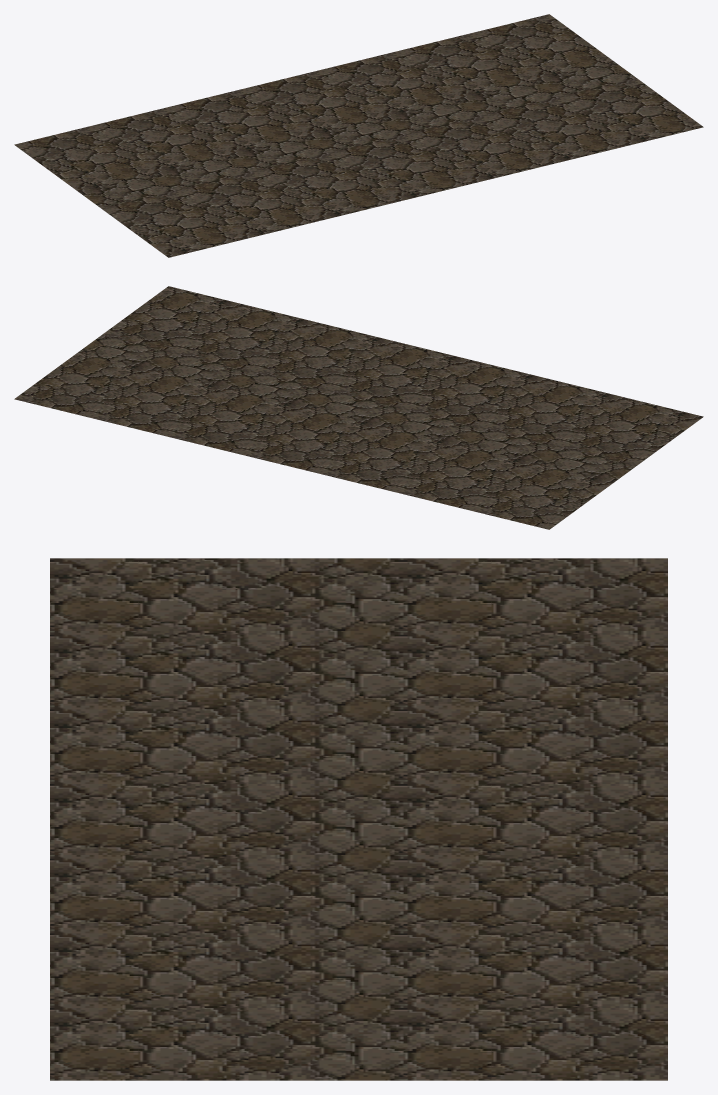
Rendered from EnvBdgMD_Snow_Mansion_A_Indoor_A_Stone.FBX.
3 views of the same model, one above another, from view 1: azimuth 30°, elevation 25°; view 2: azimuth 150°, elevation 25°; view 3: azimuth 270°, elevation 25° (orthographic). The views are drawn at different scales.
Parts seen in each view (by area): view 1: EnvBdgMD_Snow_Mansion_A_Indoor_A_Stone; view 2: EnvBdgMD_Snow_Mansion_A_Indoor_A_Stone; view 3: EnvBdgMD_Snow_Mansion_A_Indoor_A_Stone.
Part boxes in pixels (<box>): EnvBdgMD_Snow_Mansion_A_Indoor_A_Stone: <box>14,14,703,257</box>; EnvBdgMD_Snow_Mansion_A_Indoor_A_Stone: <box>14,286,703,529</box>; EnvBdgMD_Snow_Mansion_A_Indoor_A_Stone: <box>50,558,667,1080</box>.
Bounding box in the file's own units: 1400 × 4.26e-14 × 700.
1 material, 1 textured.
